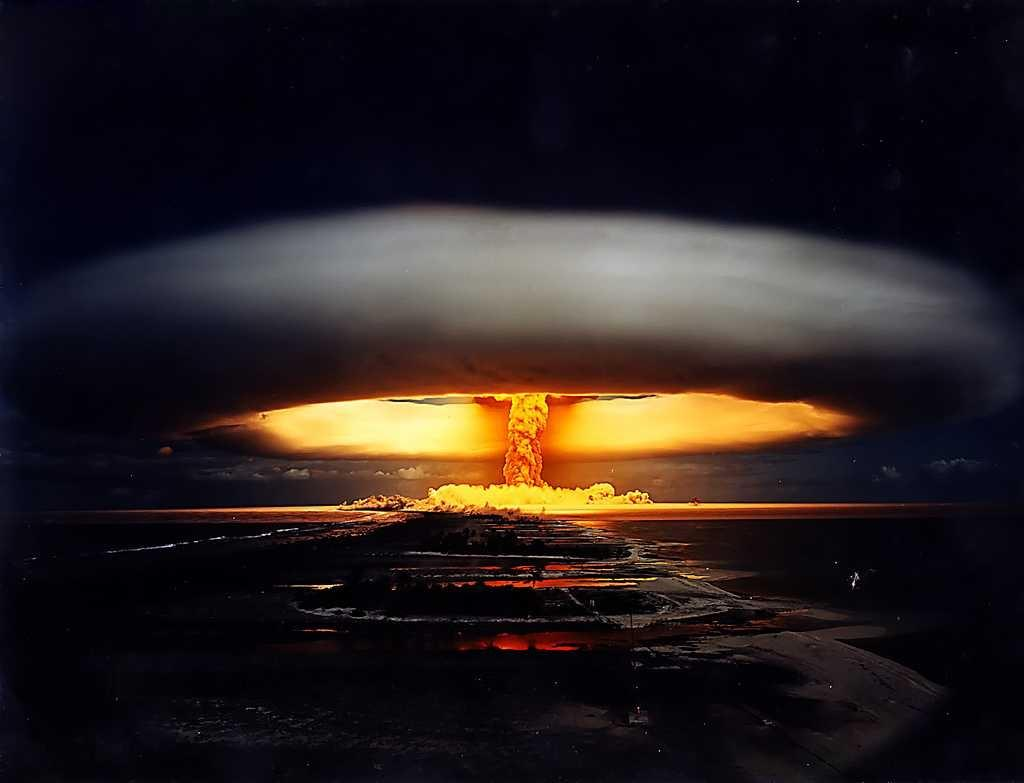fire: (430, 485, 617, 512), (507, 393, 540, 478)
